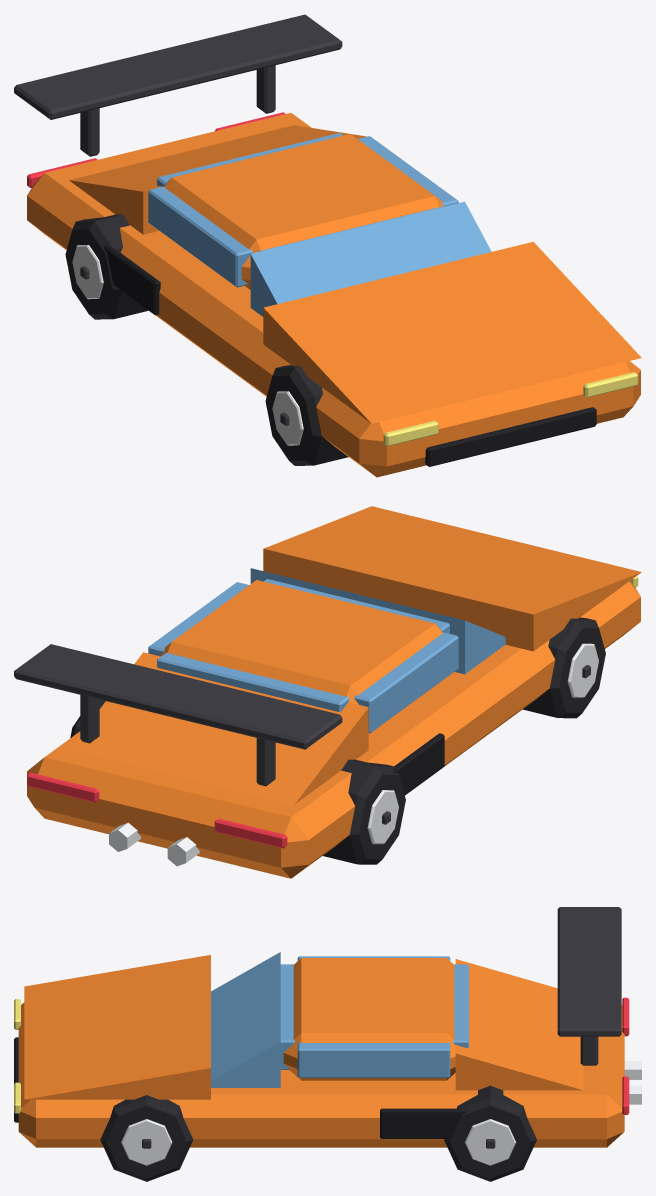
The model's file is OrangeSupercar.fbx.
The picture shows the model from 3 angles, top to bottom: view 1: azimuth 30°, elevation 25°; view 2: azimuth 150°, elevation 25°; view 3: azimuth 270°, elevation 25°; orthographic projection. The views are drawn at different scales.
Visible parts, largest first — view 1: OrangeSupercar, OrangeSupercar_WheelBR, OrangeSupercar_WheelFR; view 2: OrangeSupercar, OrangeSupercar_WheelBR, OrangeSupercar_WheelFR; view 3: OrangeSupercar, OrangeSupercar_WheelBL, OrangeSupercar_WheelFL.
Boxes of the visible parts, left/top/right/bottom form: OrangeSupercar: left=14, top=14, right=641, bottom=477; OrangeSupercar_WheelBR: left=65, top=214, right=148, bottom=319; OrangeSupercar_WheelFR: left=265, top=365, right=348, bottom=465; OrangeSupercar: left=14, top=506, right=641, bottom=878; OrangeSupercar_WheelBR: left=323, top=759, right=405, bottom=864; OrangeSupercar_WheelFR: left=523, top=617, right=605, bottom=718; OrangeSupercar: left=14, top=907, right=641, bottom=1147; OrangeSupercar_WheelBL: left=444, top=1085, right=536, bottom=1181; OrangeSupercar_WheelFL: left=100, top=1095, right=193, bottom=1181.
Size of the model in its own units: 5.22 by 2.94 by 10.78.
Materials: 1 (1 with a texture image).
